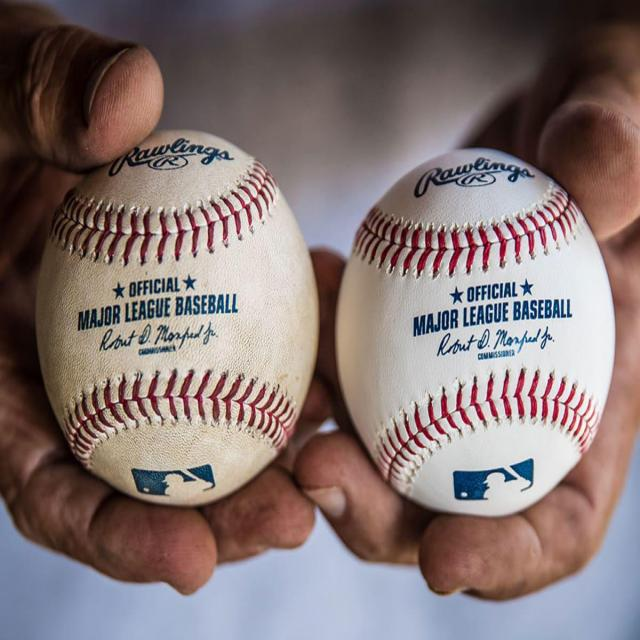baseball: (35, 126, 321, 510), (337, 148, 615, 517)
